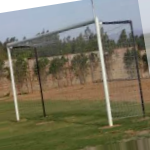goals: (6, 15, 149, 129)
